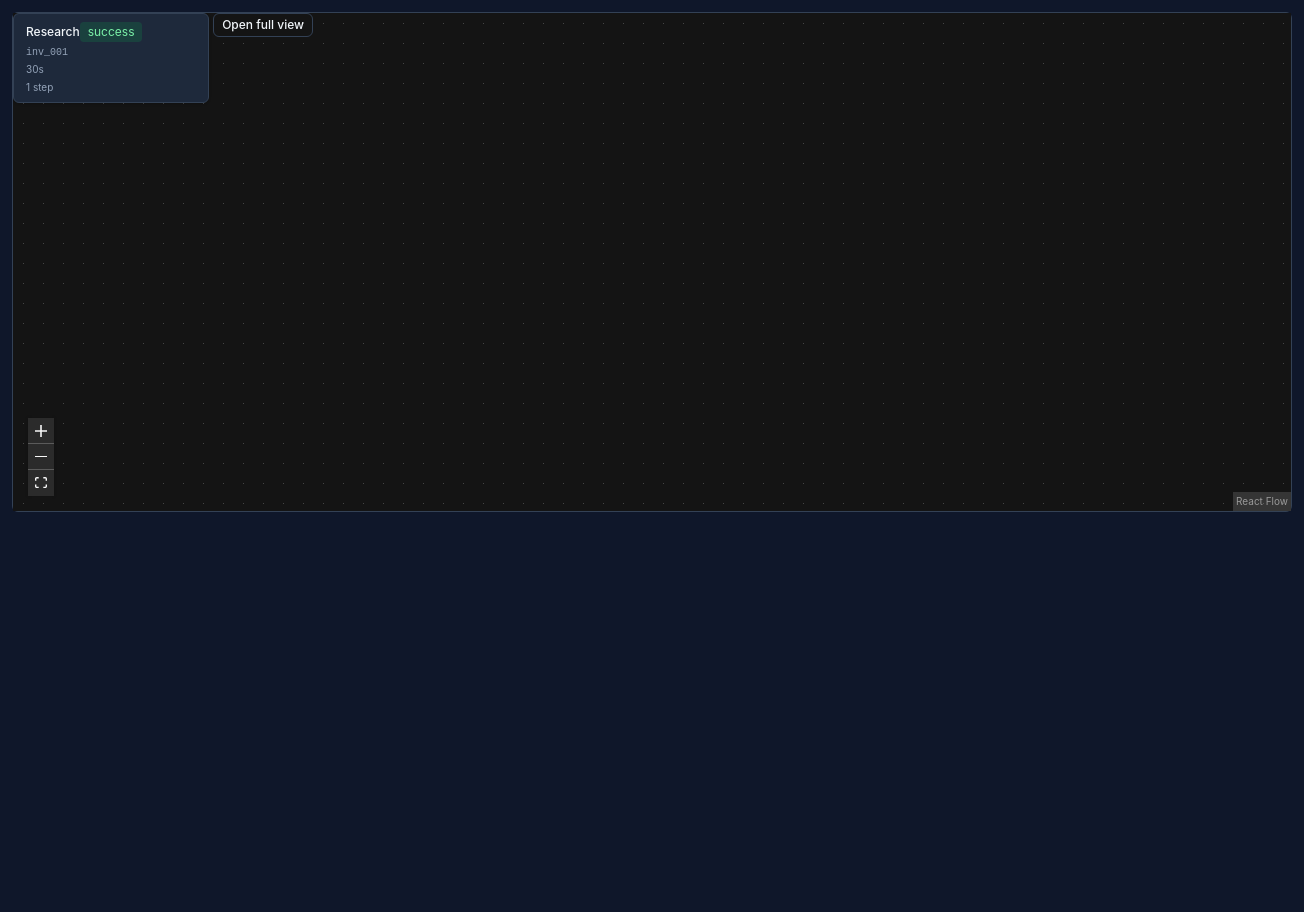
InvocationGraph › clicking a step opens the stream panel
Click the button with test id "invocation-node-inv_001" at point(111, 58), box [13,13,209,103]
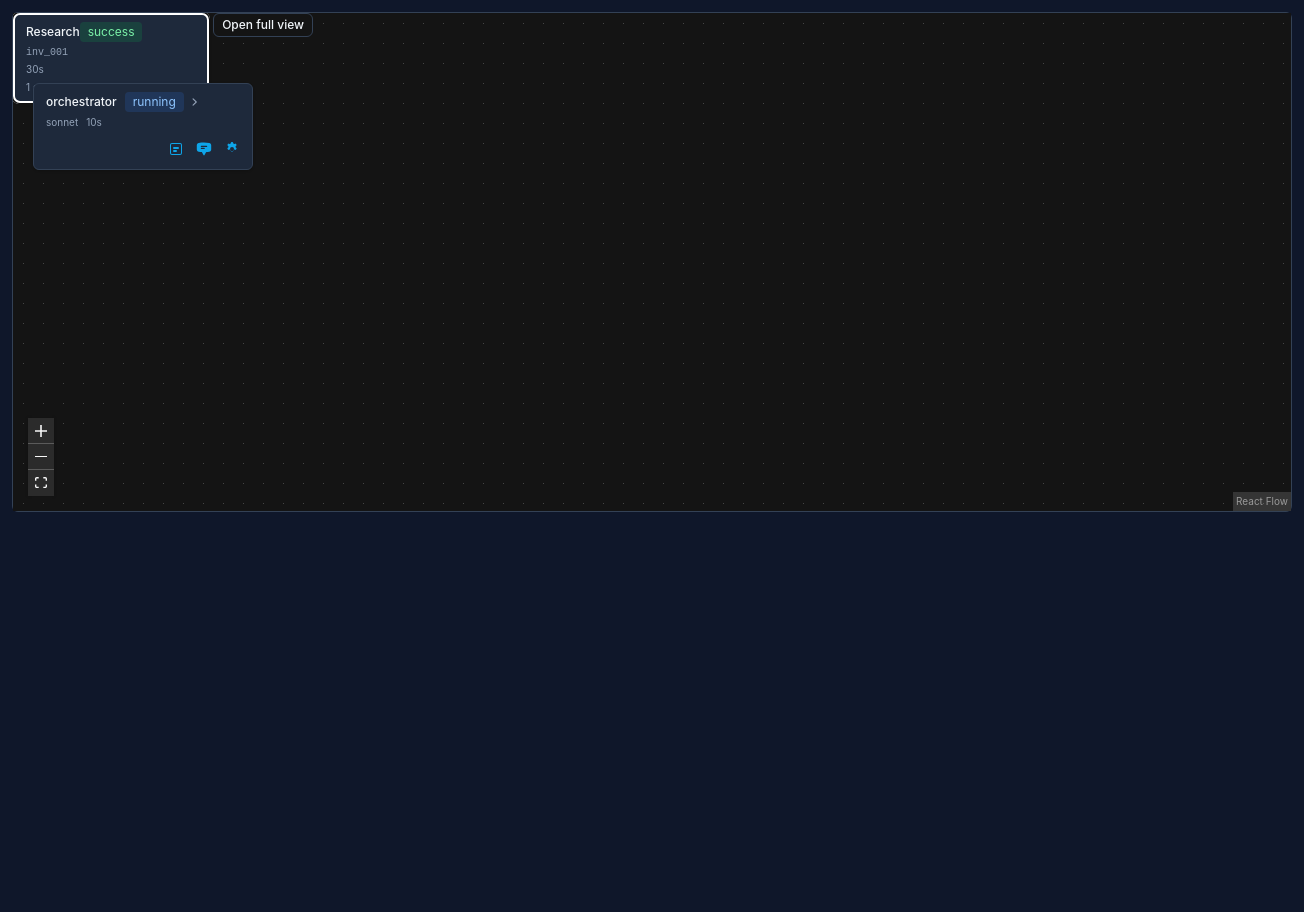
Click the button with aria-label "Show activity of " at point(143, 109), box [34,84,252,133]
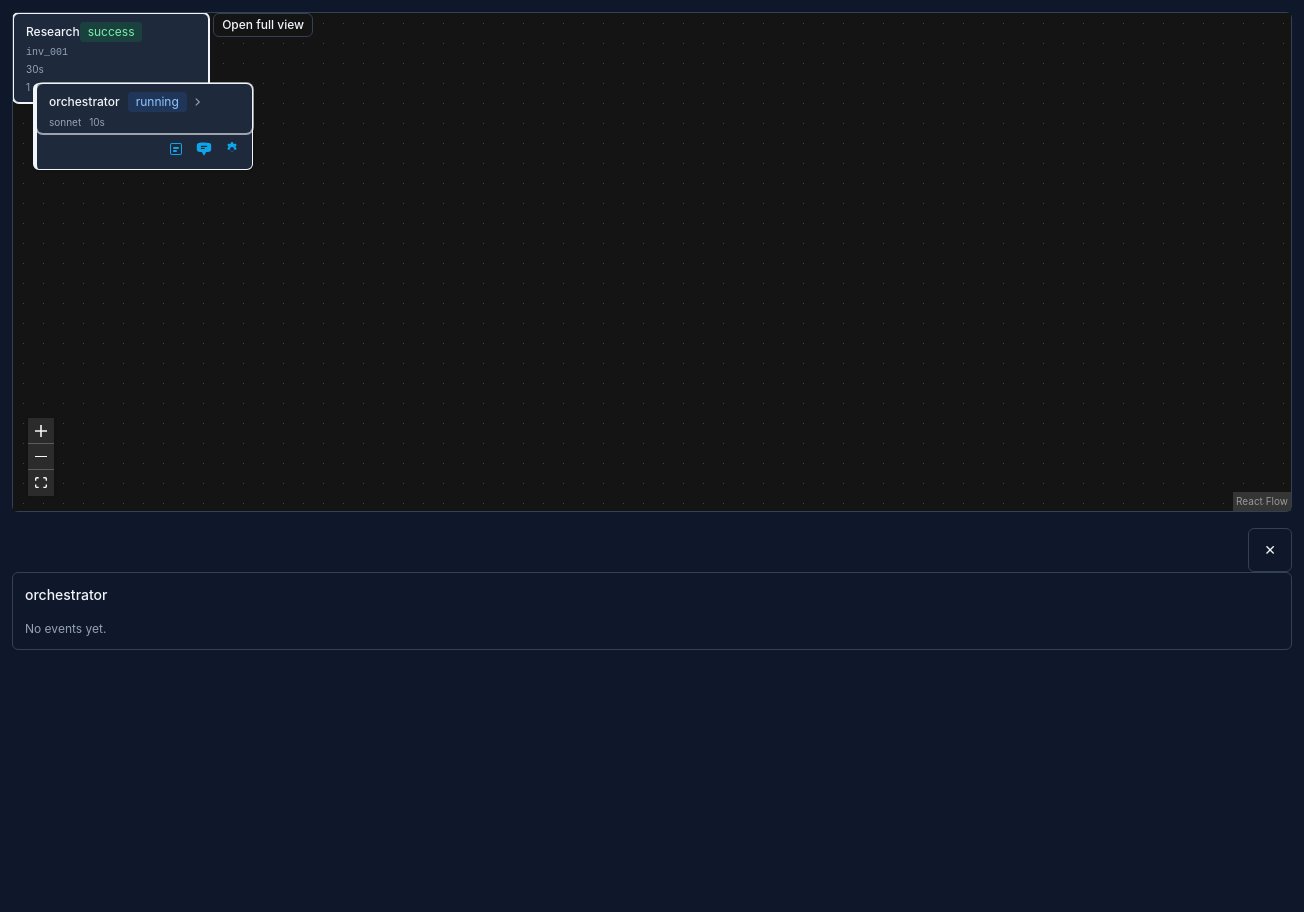
Now the element with test id "stream-panel" is shown, box [12,572,1292,650]
